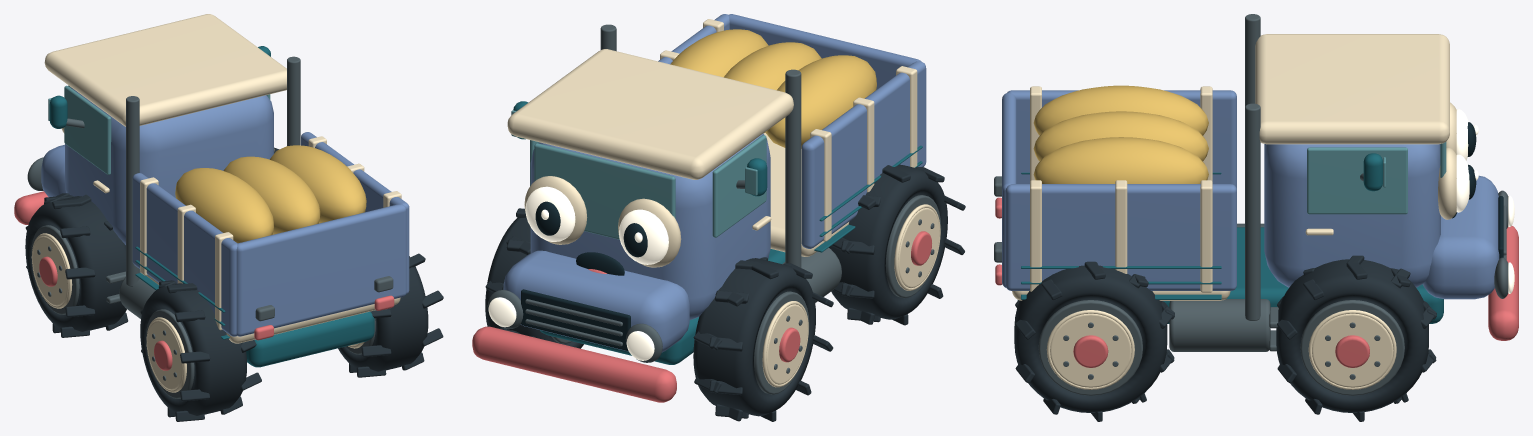
Rendered from bento.glb.
3 renders of one model, left to right at view 1: azimuth 30°, elevation 25°; view 2: azimuth 150°, elevation 25°; view 3: azimuth 270°, elevation 25°, orthographic. The views are drawn at different scales.
Visible parts, largest first — view 1: Body, WheelFL, WheelRL, WheelRR; view 2: Body, WheelFL, WheelRL, Eyes, WheelFR; view 3: Body, WheelFR, WheelRR, Eyes.
Part boxes in pixels (x1=…): Body: x1=14, y1=14, x2=409, y2=367; WheelFL: x1=25, y1=193, x2=128, y2=337; WheelRL: x1=140, y1=280, x2=261, y2=421; WheelRR: x1=338, y1=253, x2=443, y2=377; Body: x1=472, y1=14, x2=926, y2=402; WheelFL: x1=693, y1=257, x2=833, y2=421; WheelRL: x1=829, y1=164, x2=965, y2=325; Eyes: x1=524, y1=176, x2=681, y2=267; WheelFR: x1=485, y1=208, x2=583, y2=348; Body: x1=994, y1=14, x2=1518, y2=351; WheelFR: x1=1276, y1=255, x2=1436, y2=421; WheelRR: x1=1014, y1=261, x2=1174, y2=421; Eyes: x1=1438, y1=102, x2=1478, y2=219.
Size of the model in its own units: 2.83 by 2.7 by 4.31.
